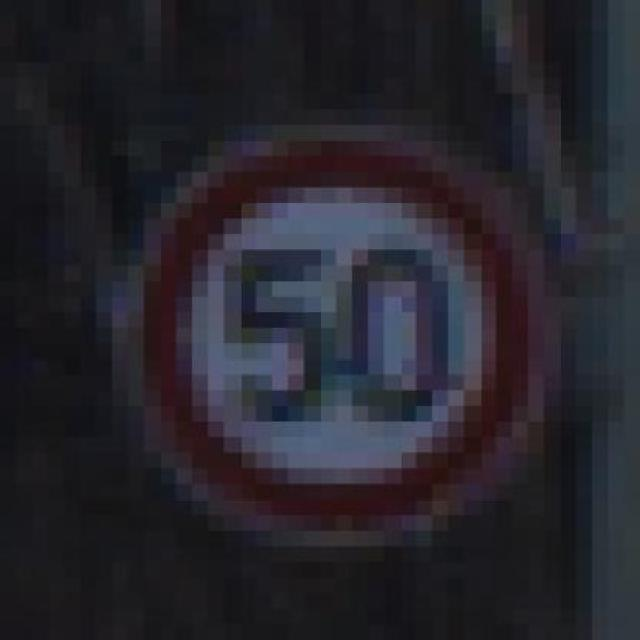forb_speed_over_50: (149, 145, 526, 524)
